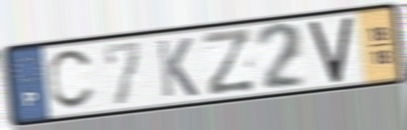2: (253, 20, 311, 94)
7: (102, 39, 143, 108)
C: (46, 47, 97, 113)
K: (154, 36, 201, 100)
V: (306, 14, 355, 86)
Z: (199, 26, 258, 99)
